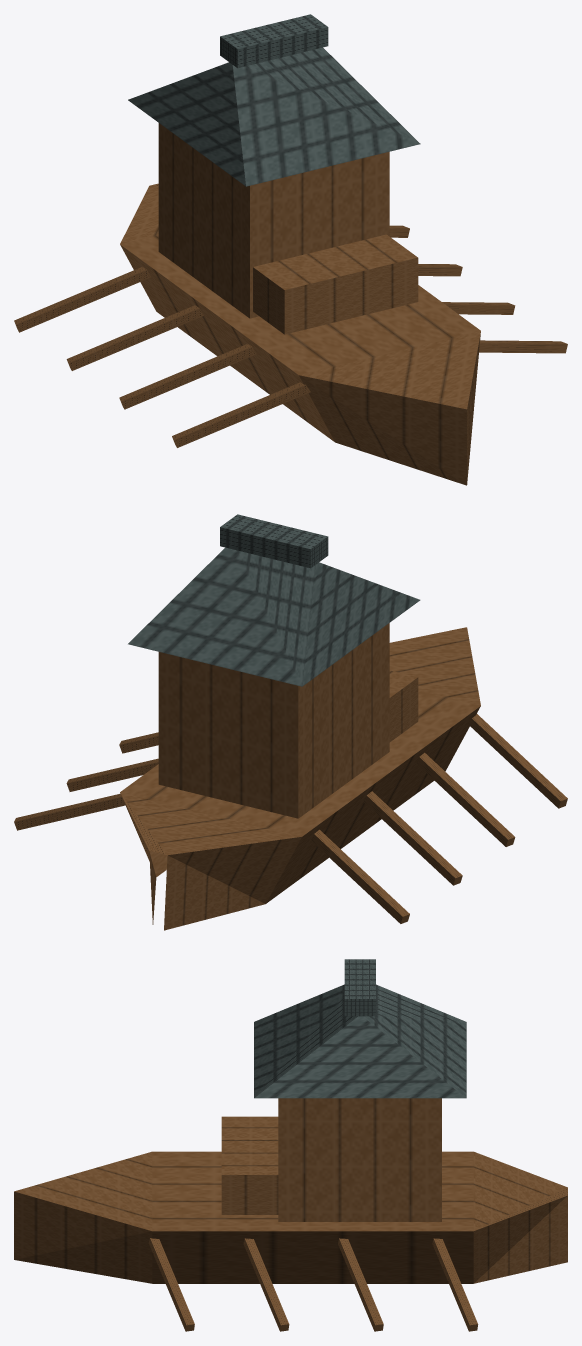
The model's file is unit-TOWER_SHIP-lod1.glb.
The picture shows the model from 3 angles, top to bottom: view 1: azimuth 30°, elevation 25°; view 2: azimuth 150°, elevation 25°; view 3: azimuth 270°, elevation 25°; orthographic projection. The views are drawn at different scales.
Bounding box in the file's own units: 0.6486 × 0.492 × 0.88.
Materials: 1 (1 with a texture image).
